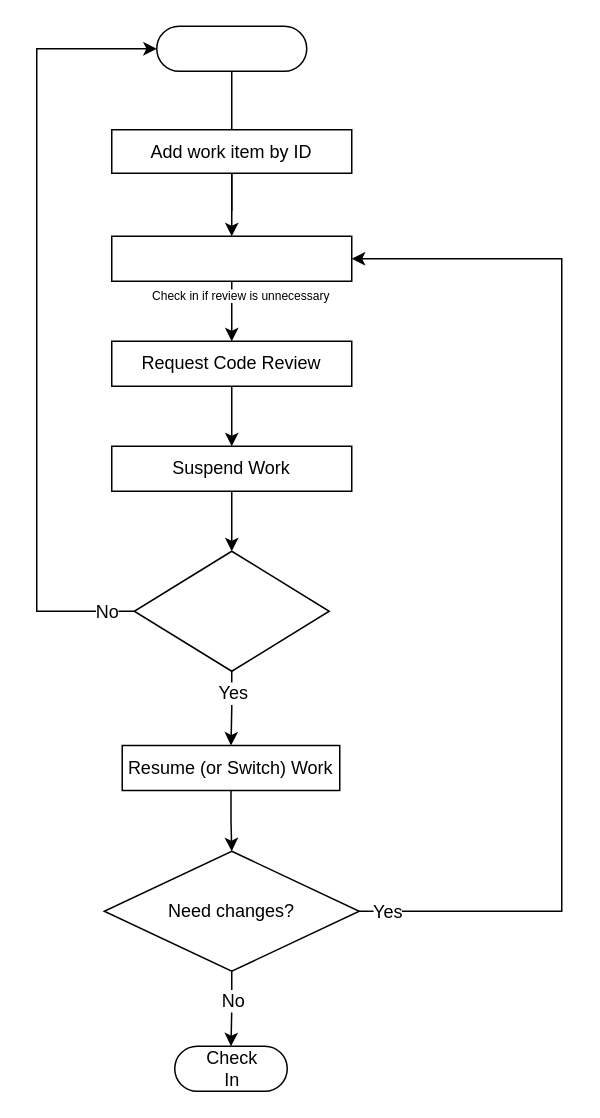
Some shapes in this 600 by 1118 pixel diagram are drawn without their labels. The shapes that lost their labels are listed below. From the top down, each one's box as (x1, y1, x2, y2) in pixels, then its label:
(155, 25, 307, 71): New Task
(110, 235, 352, 281): Start coding
(133, 550, 329, 671): Code Review Completed?
